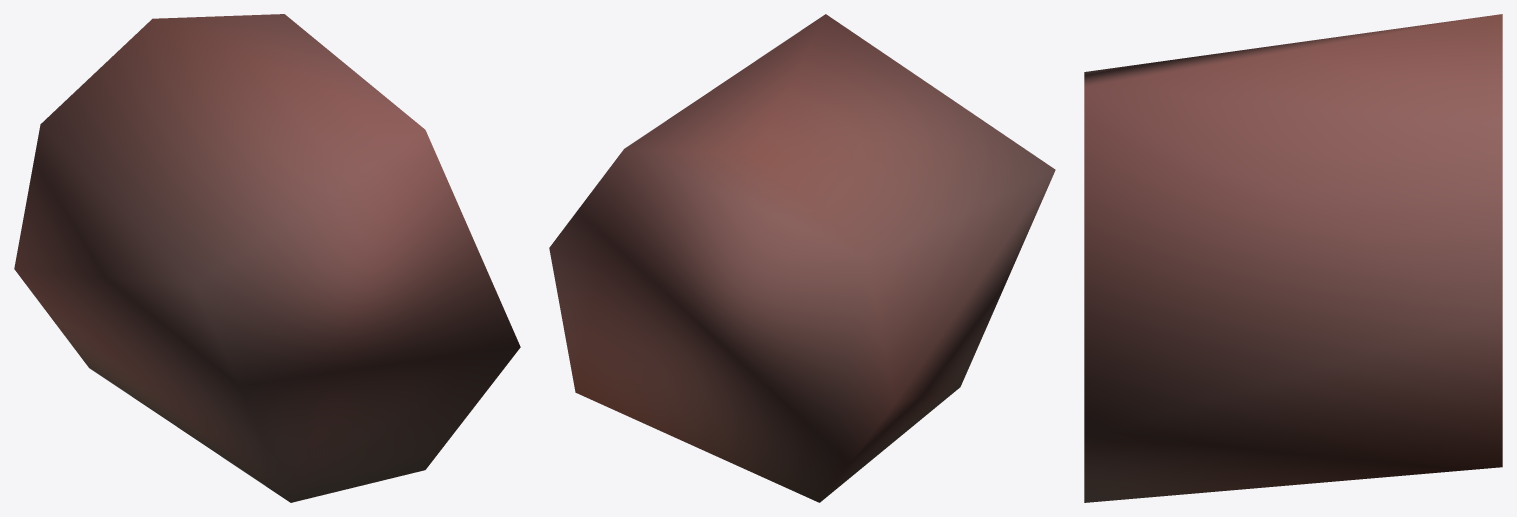
Rendered from solar_actuator_lod6.glb.
The picture shows the model from 3 angles, left to right: view 1: azimuth 30°, elevation 25°; view 2: azimuth 150°, elevation 25°; view 3: azimuth 270°, elevation 25°; orthographic projection. The views are drawn at different scales.
Visible parts, largest first — view 1: solar_actuator; view 2: solar_actuator; view 3: solar_actuator.
Part boxes in pixels (x1,y1,x2,y2): solar_actuator: (14, 14, 520, 502); solar_actuator: (549, 14, 1055, 502); solar_actuator: (1084, 14, 1502, 502).
Bounding box in the file's own units: 0.3923 × 0.3809 × 0.3372.
